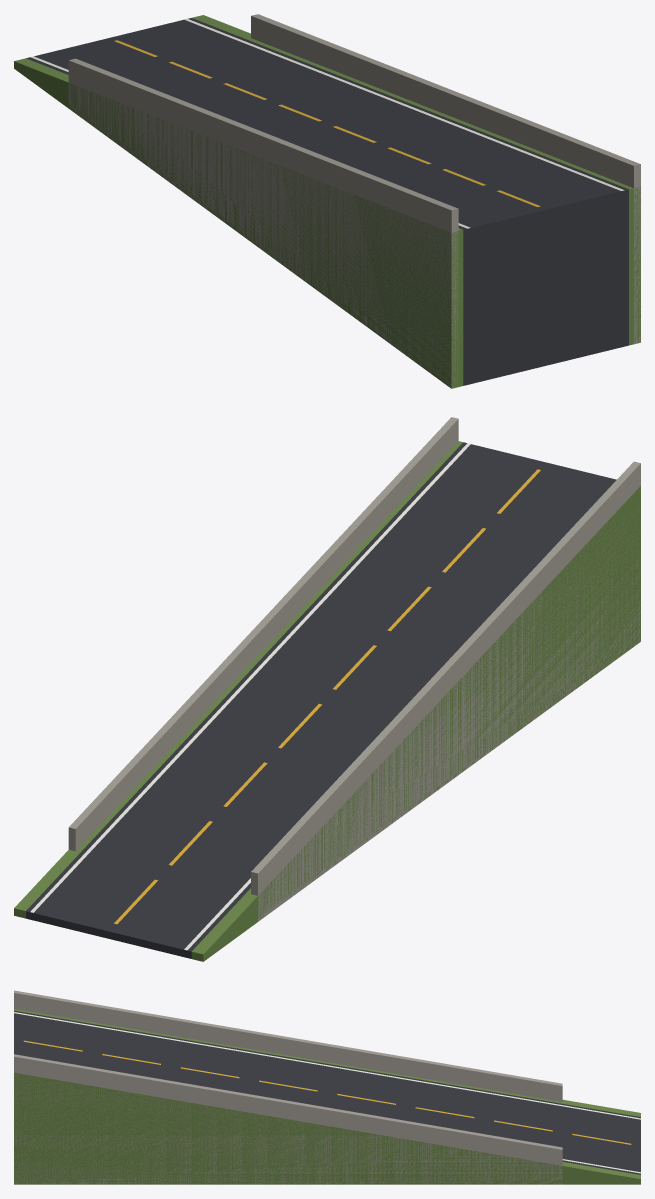
The model's file is Bridge_RampApproach_2Lane_NoSidewalk_32m.glb.
The picture shows the model from 3 angles, top to bottom: view 1: azimuth 30°, elevation 25°; view 2: azimuth 150°, elevation 25°; view 3: azimuth 270°, elevation 25°; orthographic projection. The views are drawn at different scales.
Parts seen in each view (by area): view 1: Bridge_RampApproach_2Lane_NoSidewalk_32m_Asphalt, Bridge_RampApproach_2Lane_NoSidewalk_32m_Concrete, Bridge_RampApproach_2Lane_NoSidewalk_32m_Grass-edge, Bridge_RampApproach_2Lane_NoSidewalk_32m_PaintWhite, Bridge_RampApproach_2Lane_NoSidewalk_32m_PaintYellow; view 2: Bridge_RampApproach_2Lane_NoSidewalk_32m_Asphalt, Bridge_RampApproach_2Lane_NoSidewalk_32m_Concrete, Bridge_RampApproach_2Lane_NoSidewalk_32m_Grass-edge, Bridge_RampApproach_2Lane_NoSidewalk_32m_PaintWhite, Bridge_RampApproach_2Lane_NoSidewalk_32m_PaintYellow; view 3: Bridge_RampApproach_2Lane_NoSidewalk_32m_Grass-edge, Bridge_RampApproach_2Lane_NoSidewalk_32m_Concrete, Bridge_RampApproach_2Lane_NoSidewalk_32m_Asphalt, Bridge_RampApproach_2Lane_NoSidewalk_32m_PaintWhite, Bridge_RampApproach_2Lane_NoSidewalk_32m_PaintYellow.
Boxes of the visible parts, left/top/right/bottom form: Bridge_RampApproach_2Lane_NoSidewalk_32m_Asphalt: left=26, top=18, right=628, bottom=385; Bridge_RampApproach_2Lane_NoSidewalk_32m_Concrete: left=68, top=14, right=640, bottom=388; Bridge_RampApproach_2Lane_NoSidewalk_32m_Grass-edge: left=14, top=15, right=640, bottom=388; Bridge_RampApproach_2Lane_NoSidewalk_32m_PaintWhite: left=30, top=18, right=624, bottom=228; Bridge_RampApproach_2Lane_NoSidewalk_32m_PaintYellow: left=114, top=40, right=540, bottom=207; Bridge_RampApproach_2Lane_NoSidewalk_32m_Asphalt: left=26, top=442, right=616, bottom=958; Bridge_RampApproach_2Lane_NoSidewalk_32m_Concrete: left=68, top=417, right=640, bottom=921; Bridge_RampApproach_2Lane_NoSidewalk_32m_Grass-edge: left=14, top=441, right=640, bottom=961; Bridge_RampApproach_2Lane_NoSidewalk_32m_PaintWhite: left=30, top=443, right=470, bottom=950; Bridge_RampApproach_2Lane_NoSidewalk_32m_PaintYellow: left=114, top=469, right=540, bottom=924; Bridge_RampApproach_2Lane_NoSidewalk_32m_Grass-edge: left=14, top=1009, right=640, bottom=1184; Bridge_RampApproach_2Lane_NoSidewalk_32m_Concrete: left=14, top=990, right=562, bottom=1184; Bridge_RampApproach_2Lane_NoSidewalk_32m_Asphalt: left=14, top=1010, right=640, bottom=1174; Bridge_RampApproach_2Lane_NoSidewalk_32m_PaintWhite: left=14, top=1012, right=640, bottom=1173; Bridge_RampApproach_2Lane_NoSidewalk_32m_PaintYellow: left=23, top=1040, right=631, bottom=1144.
Size of the model in its own units: 8 by 7.2 by 32.
